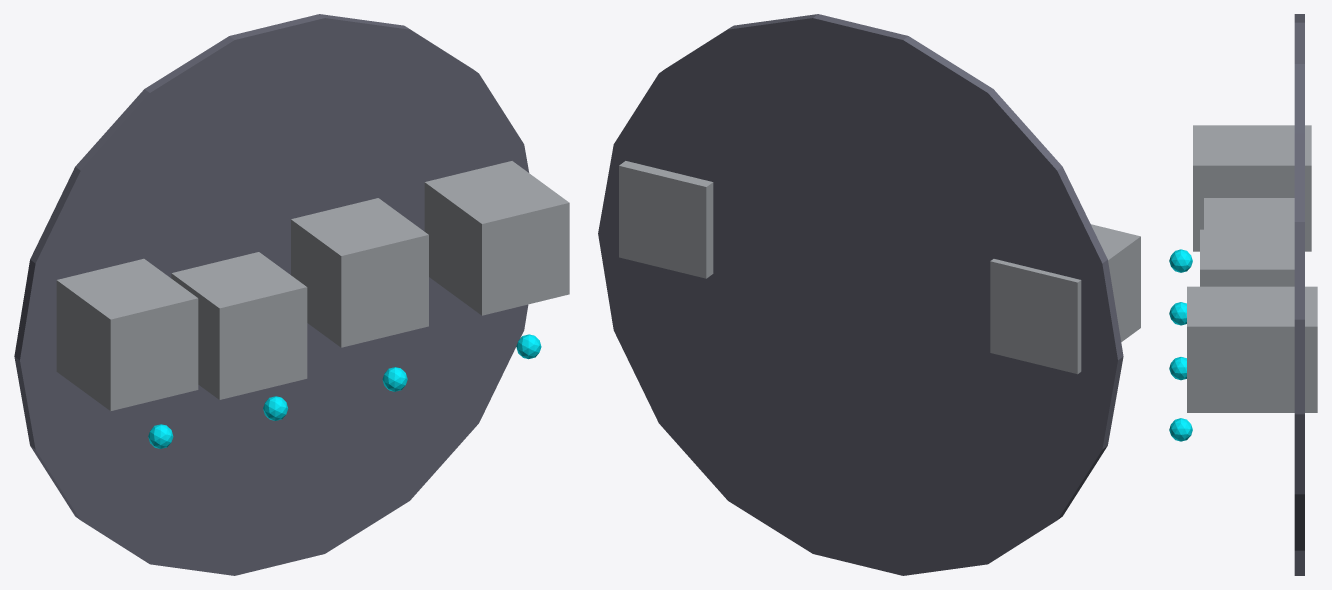
The model's file is 02_local_prop_cluster.glb.
3 renders of one model, left to right at view 1: azimuth 30°, elevation 25°; view 2: azimuth 150°, elevation 25°; view 3: azimuth 270°, elevation 25°, orthographic. The views are drawn at different scales.
Parts seen in each view (by area): view 1: scatter_base, tech_crate_3, tech_crate_0, tech_crate_2, tech_crate_1; view 2: scatter_base, tech_crate_0, tech_crate_3; view 3: tech_crate_3, tech_crate_0, scatter_base, tech_crate_2, tech_crate_1, status_light_3, status_light_0, status_light_1, status_light_2.
Boxes of the visible parts, x1,y1,x2,y2 form: scatter_base: (14, 14, 529, 575); tech_crate_3: (424, 161, 569, 315); tech_crate_0: (56, 258, 198, 410); tech_crate_2: (291, 198, 428, 347); tech_crate_1: (171, 252, 307, 399); scatter_base: (598, 14, 1123, 575); tech_crate_0: (990, 224, 1140, 374); tech_crate_3: (619, 161, 713, 278); tech_crate_3: (1187, 286, 1317, 412); tech_crate_0: (1193, 125, 1311, 251); scatter_base: (1294, 14, 1304, 575); tech_crate_2: (1200, 229, 1294, 286); tech_crate_1: (1204, 198, 1294, 229); status_light_3: (1169, 418, 1192, 441); status_light_0: (1169, 249, 1192, 272); status_light_1: (1169, 302, 1186, 325); status_light_2: (1169, 357, 1186, 380).
Size of the model in its own units: 1.9 by 1.87 by 0.5005.
